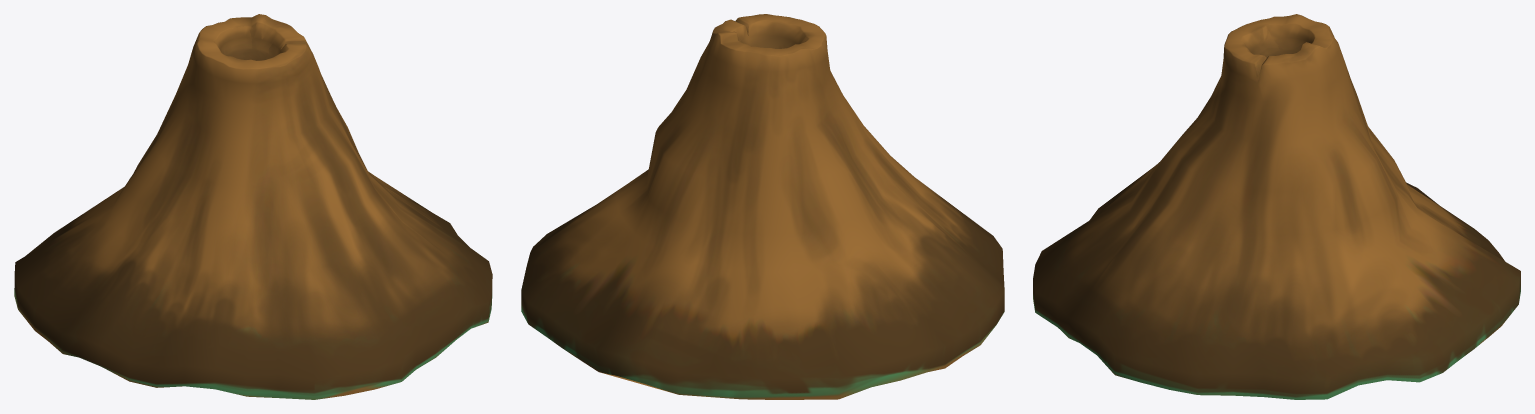
Rendered from volcano.fbx.
3 views of the same model, side by side, from view 1: azimuth 30°, elevation 25°; view 2: azimuth 150°, elevation 25°; view 3: azimuth 270°, elevation 25° (orthographic). The views are drawn at different scales.
Visible parts, largest first — view 1: volcano; view 2: volcano; view 3: volcano.
Boxes of the visible parts, left/top/right/bottom form: volcano: left=14, top=14, right=492, bottom=399; volcano: left=521, top=14, right=1004, bottom=399; volcano: left=1033, top=14, right=1520, bottom=399.
Size of the model in its own units: 3.58 by 2.26 by 3.73.
Materials: 1 (1 with a texture image).
